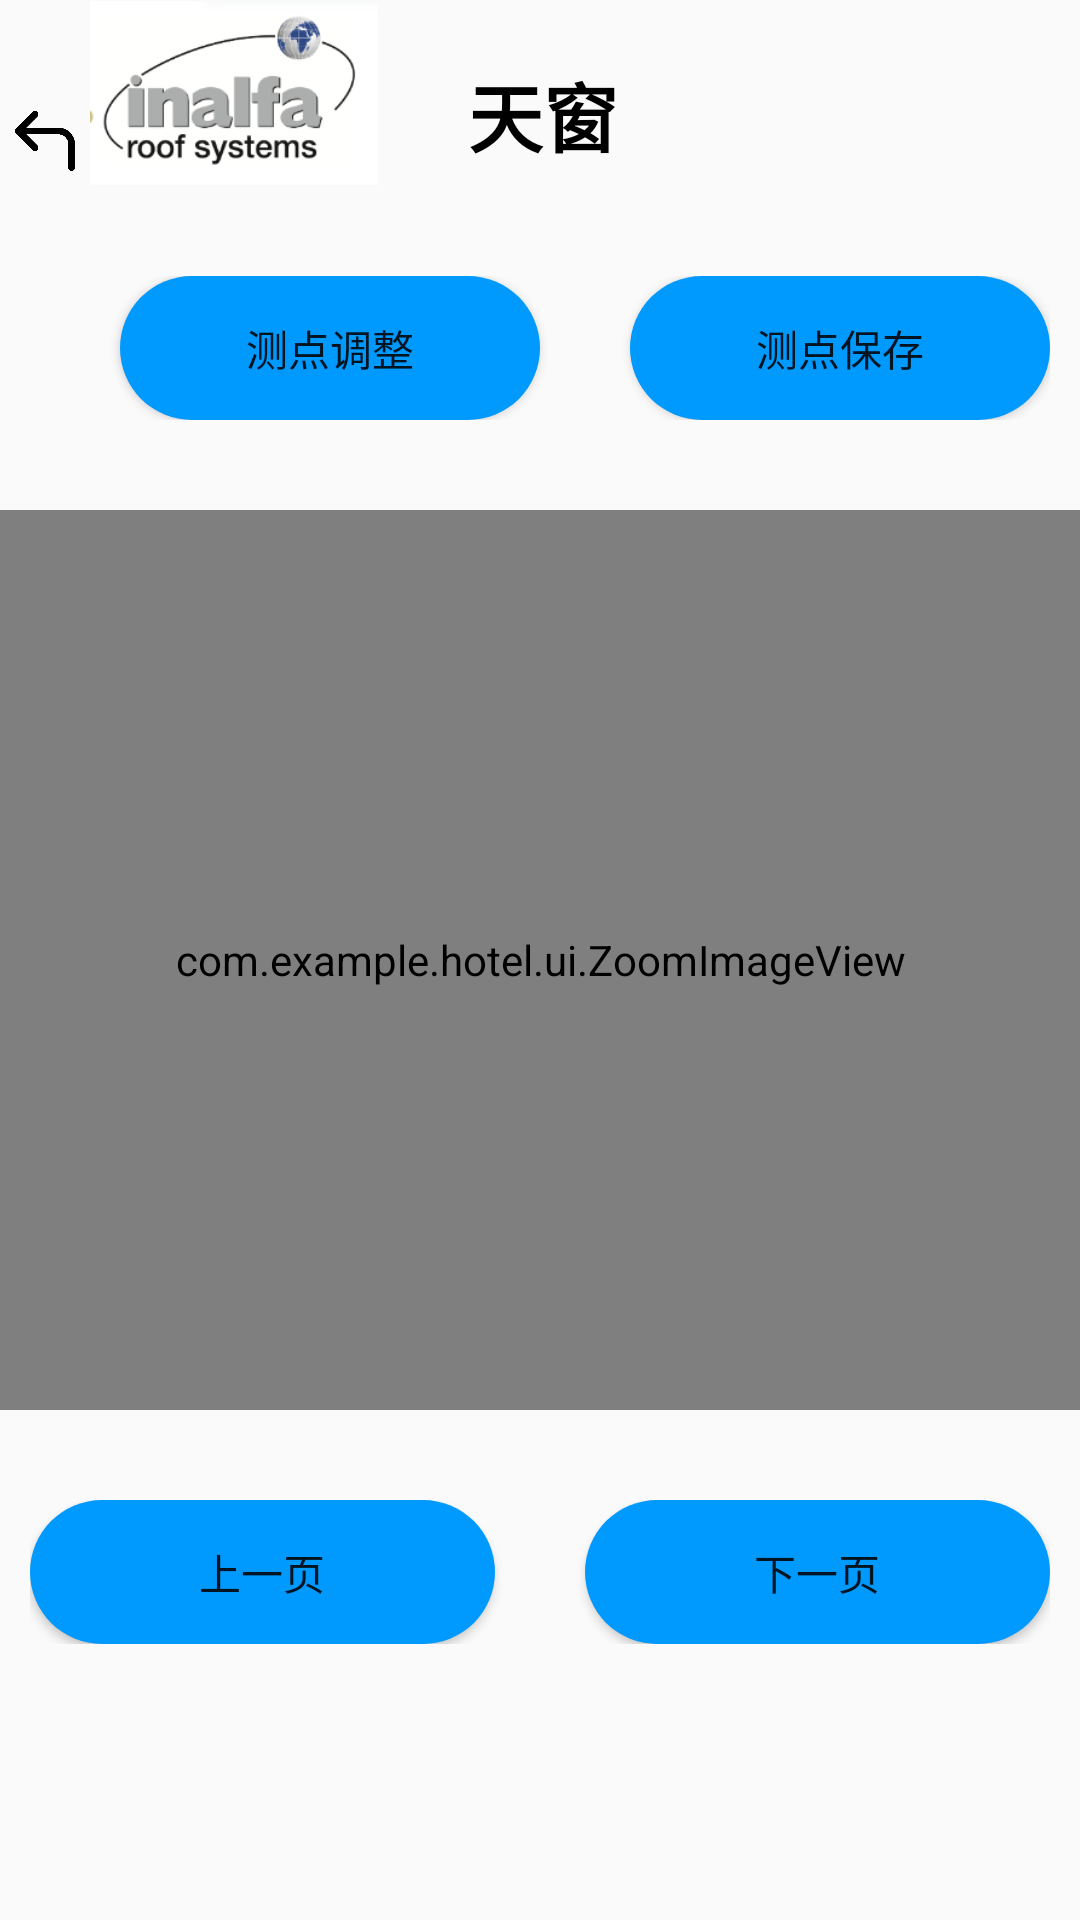

Named icons in this screenshot (1080px×1920px) and their bounding boxes, (x1, y1, x2, y2):
back: (15, 111, 75, 171)
